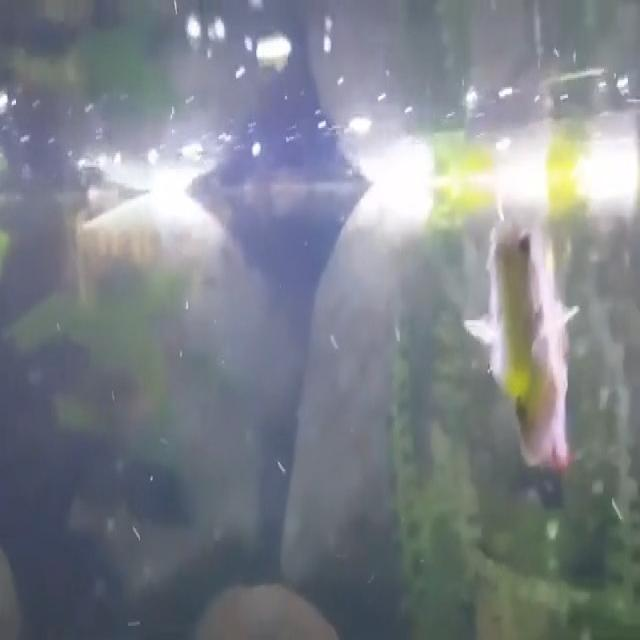fish: (474, 209, 580, 476)
